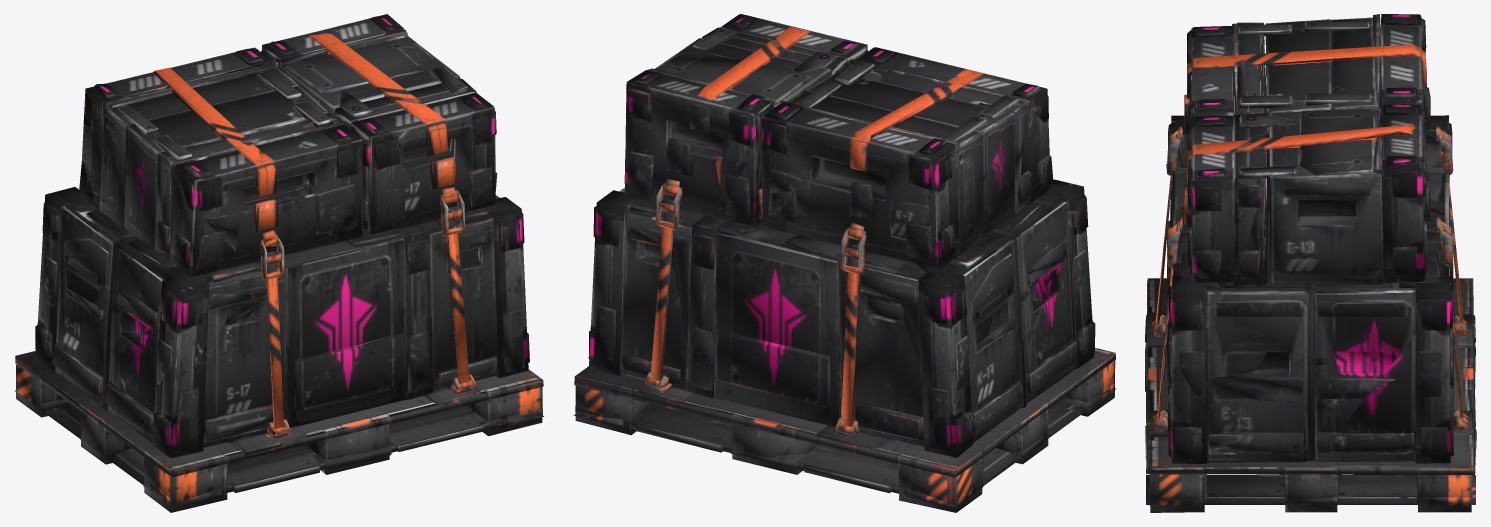
Rendered from shipping_crates.glb.
3 views of the same model, side by side, from view 1: azimuth 30°, elevation 25°; view 2: azimuth 150°, elevation 25°; view 3: azimuth 270°, elevation 25° (orthographic). The views are drawn at different scales.
Size of the model in its own units: 1 by 0.8301 by 0.7422.
1 material, 1 textured.
